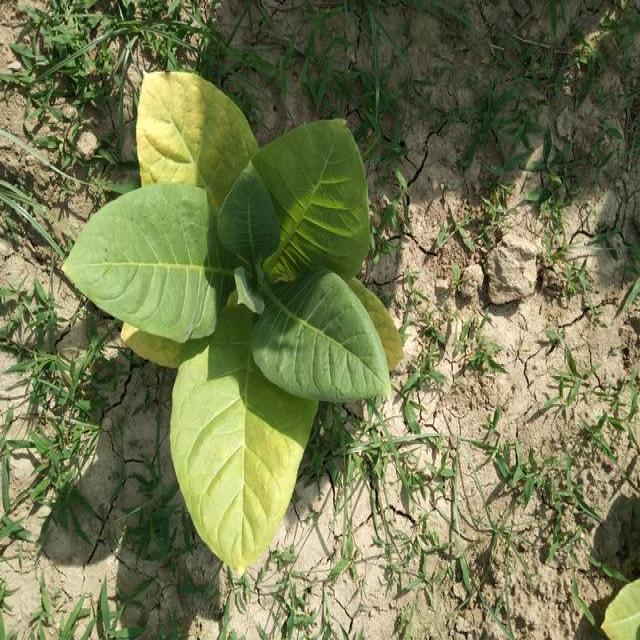crop: (58, 76, 402, 570)
